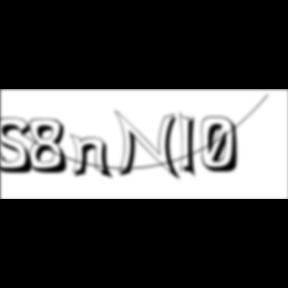0: (202, 115, 246, 174)
8: (30, 117, 74, 176)
I: (179, 110, 203, 182)
N: (115, 109, 185, 183)
S: (1, 117, 40, 176)
n: (70, 132, 118, 181)
